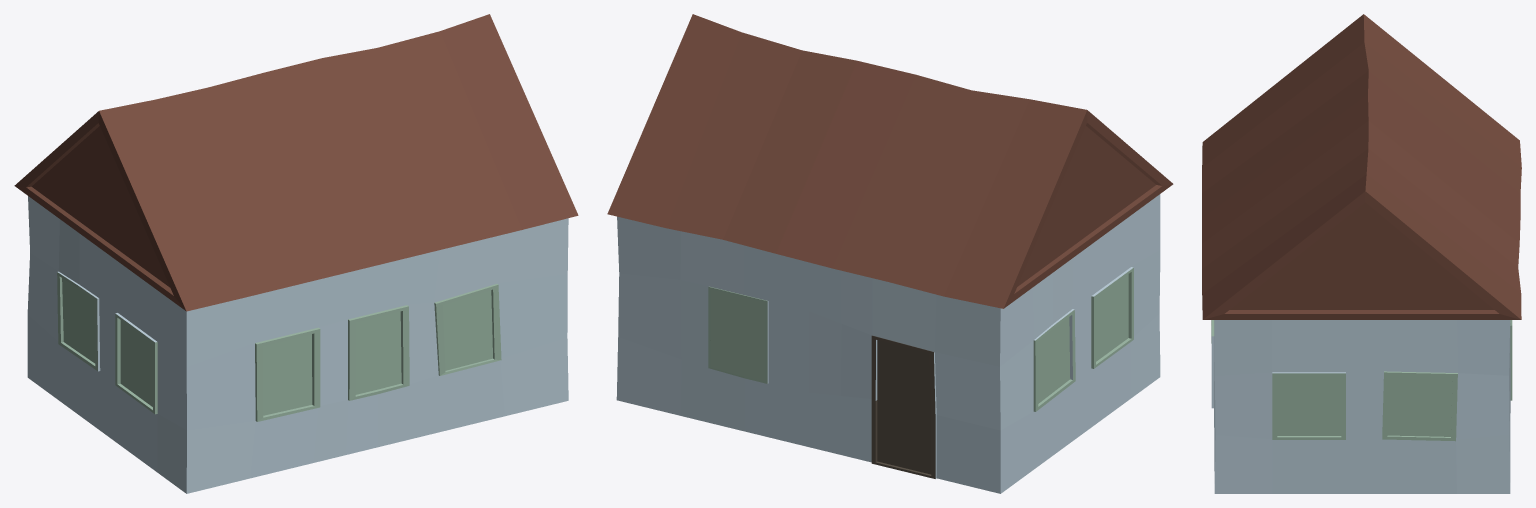
The model's file is dom_1.fbx.
3 views of the same model, side by side, from view 1: azimuth 30°, elevation 25°; view 2: azimuth 150°, elevation 25°; view 3: azimuth 270°, elevation 25° (orthographic). The views are drawn at different scales.
Visible parts, largest first — view 1: Plane, Cube, windows; view 2: Plane, Cube, windows, door; view 3: Plane, Cube, windows.
Boxes of the visible parts, x1,y1,x2,y2 form: Plane: (14,14,578,311); Cube: (27,196,568,493); windows: (57,272,501,421); Plane: (607,14,1173,308); Cube: (616,194,1160,493); windows: (708,267,1133,411); door: (871,335,935,478); Plane: (1202,14,1521,319); Cube: (1211,320,1510,493); windows: (1211,320,1512,441).
Bounding box in the file's own units: 440 × 348 × 332.
